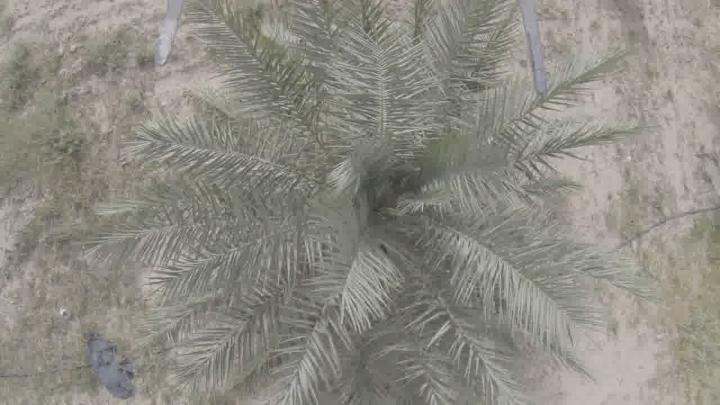Date-Palm-Crown: (236, 77, 489, 328)
